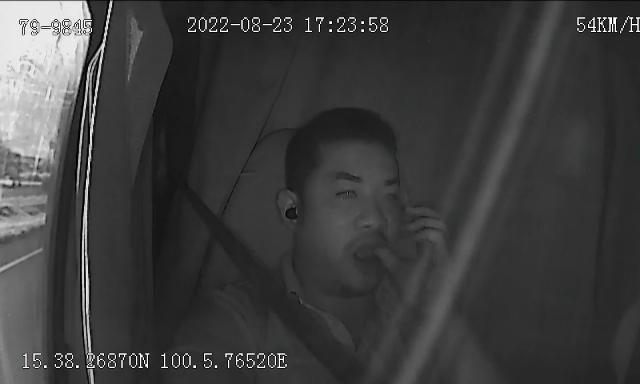SafeDriving: (273, 188, 310, 230), (330, 176, 363, 206)
Seatbelt: (172, 172, 366, 384)
